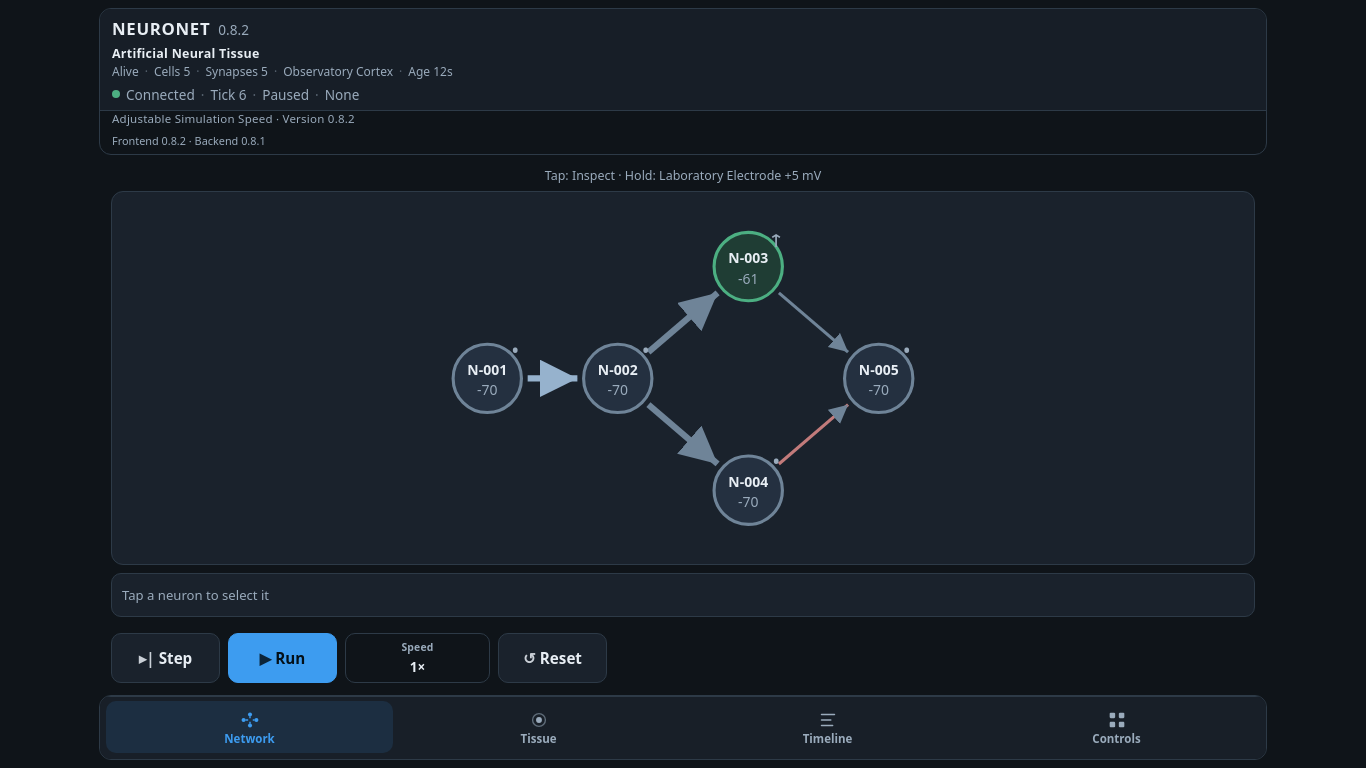
Mission Control page › uses structured backend events for Development timeline filters
expect the text "Connected" is shown: met, box [126, 85, 195, 104]
Click the button with aria-label "Tick timeline" at (828, 727), box [684, 701, 971, 753]
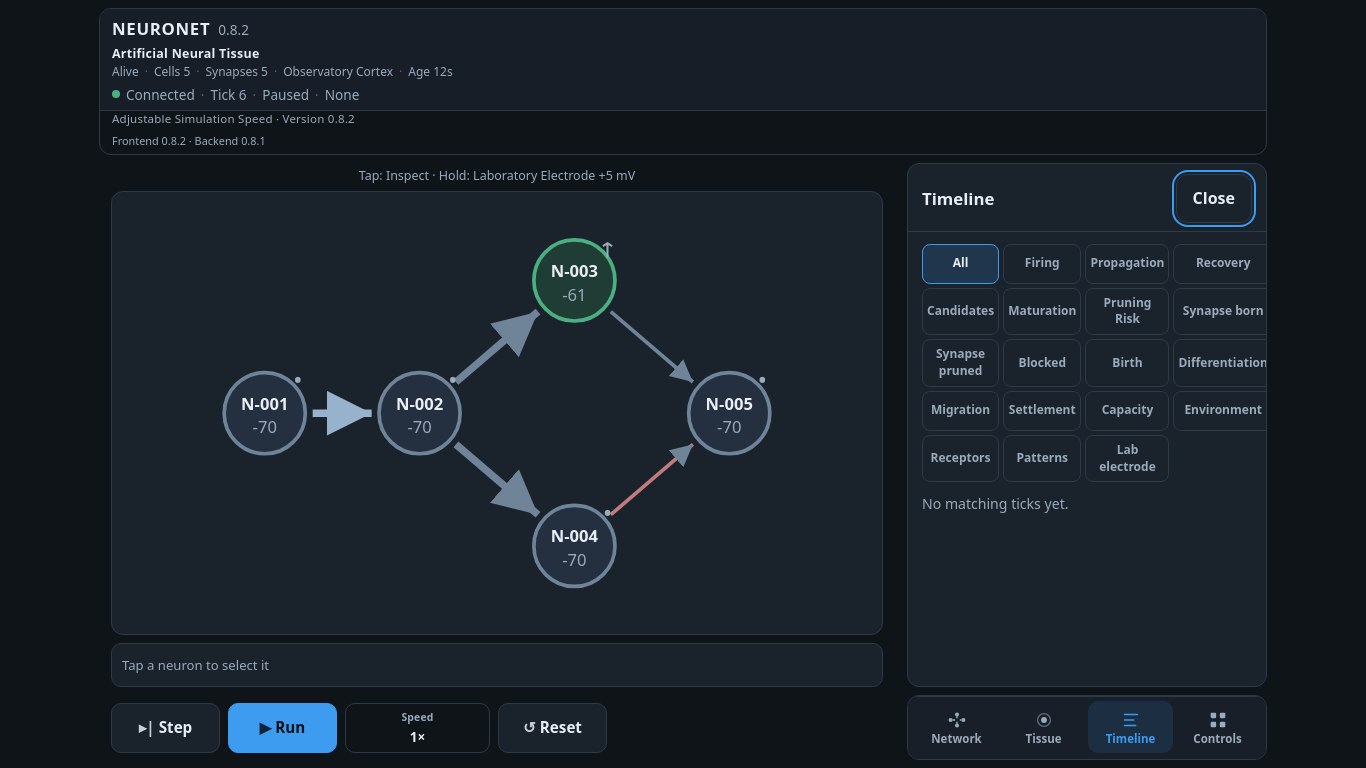
Click the tab with test id "timeline-filter-maturation" at (1042, 311), box [1003, 288, 1081, 335]
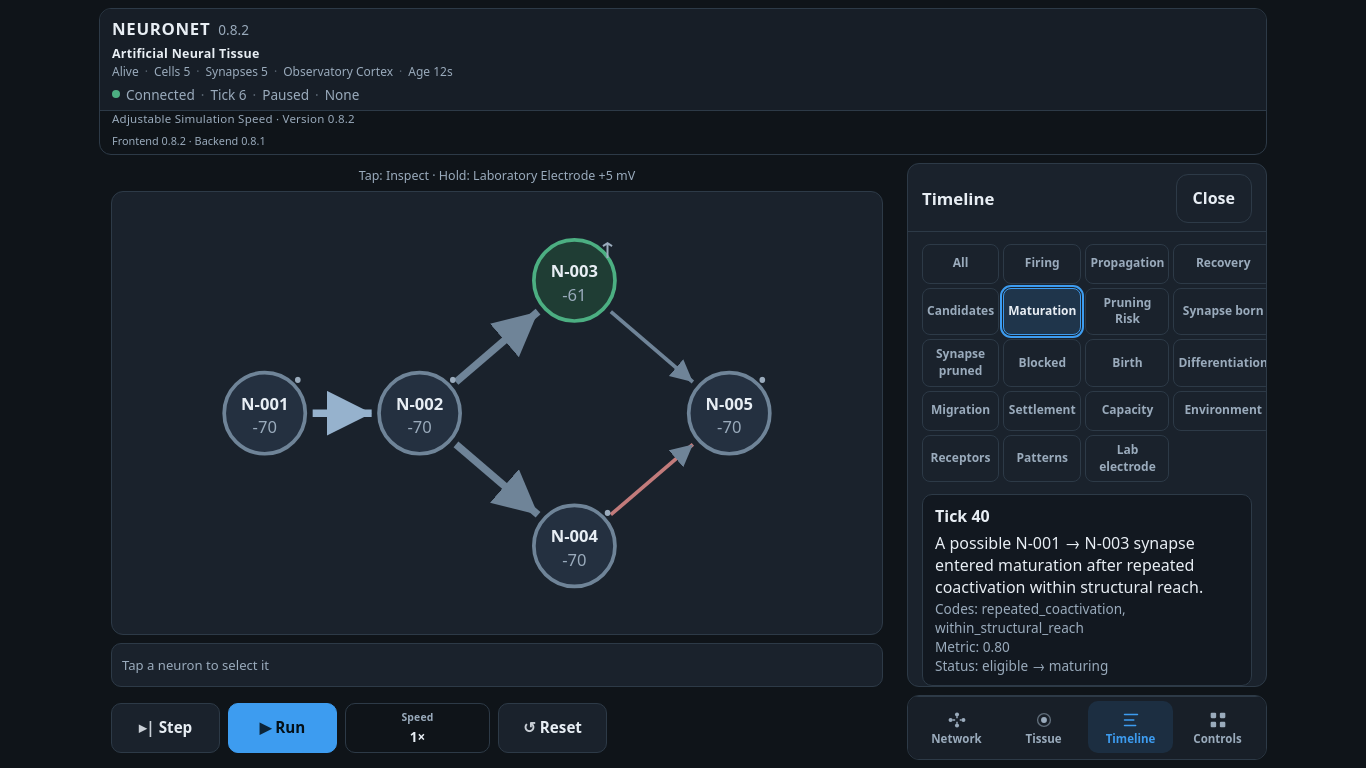
expect the list item with test id "timeline-structural-item" shows "entered maturation": met, box [935, 532, 1203, 598]
expect the list item with test id "timeline-structural-item" shows "repeated_coactivation": met, box [935, 599, 1126, 637]
